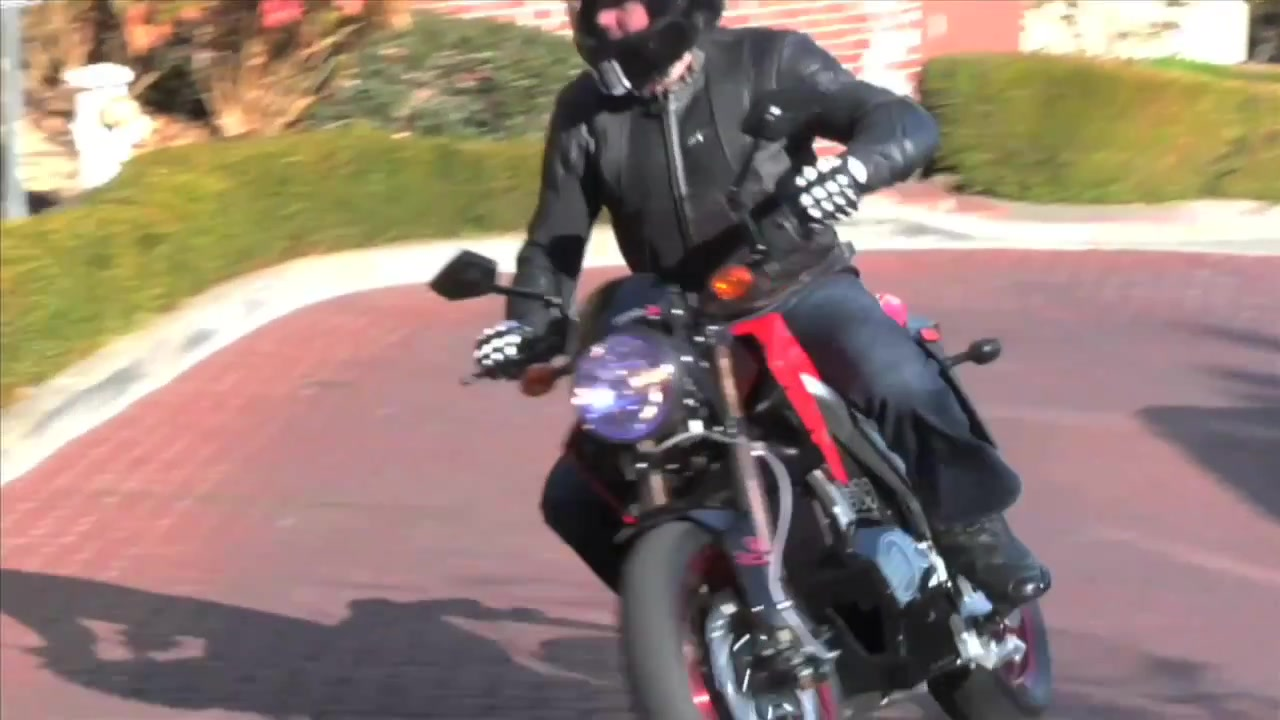motorbike: (428, 91, 1057, 720)
